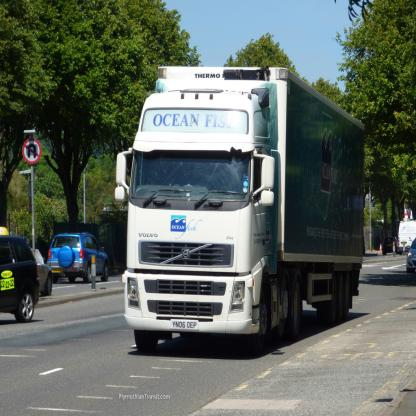Car: (1, 230, 41, 324), (49, 233, 110, 281), (33, 249, 54, 297), (407, 240, 416, 274)
